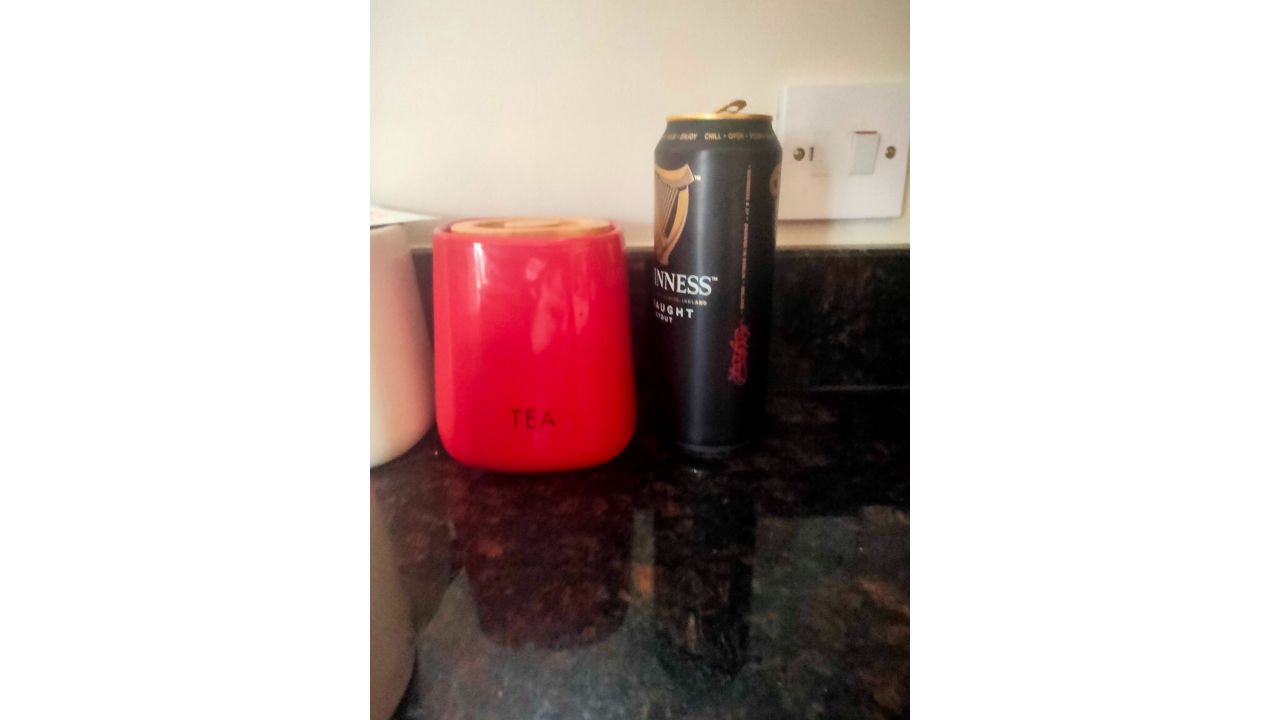Can: (645, 101, 788, 467)
